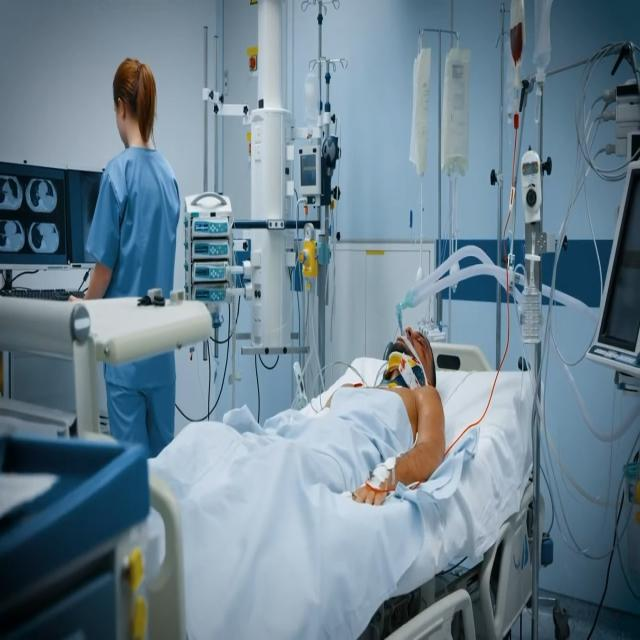Nurse: (81, 29, 194, 290)
Patient: (312, 286, 470, 522)
